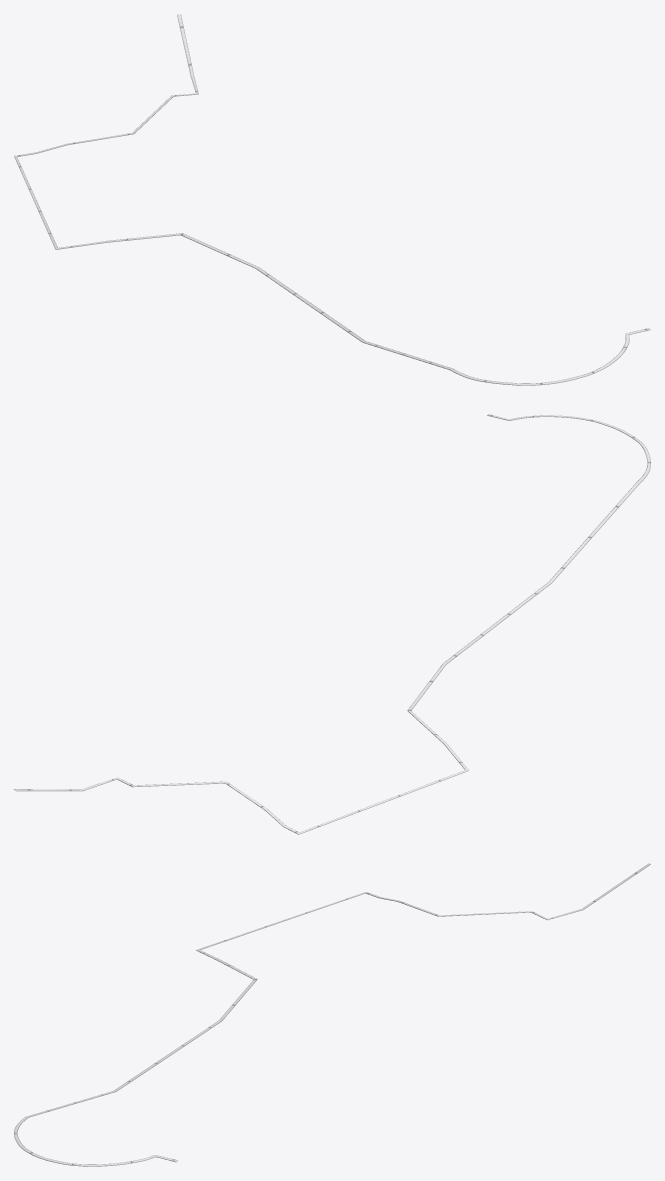
Rendered from STA20_RAILINGOfficeA01.FBX.
3 renders of one model, top to bottom at view 1: azimuth 30°, elevation 25°; view 2: azimuth 150°, elevation 25°; view 3: azimuth 330°, elevation 25°, orthographic. The views are drawn at different scales.
Parts seen in each view (by area): view 1: STA20_RAILINGOfficeA01; view 2: STA20_RAILINGOfficeA01; view 3: STA20_RAILINGOfficeA01.
Part boxes in pixels (<box>): STA20_RAILINGOfficeA01: <box>14,14,650,385</box>; STA20_RAILINGOfficeA01: <box>14,414,650,834</box>; STA20_RAILINGOfficeA01: <box>14,863,650,1166</box>.
Size of the model in its own units: 31.28 by 7.87 by 92.12.
